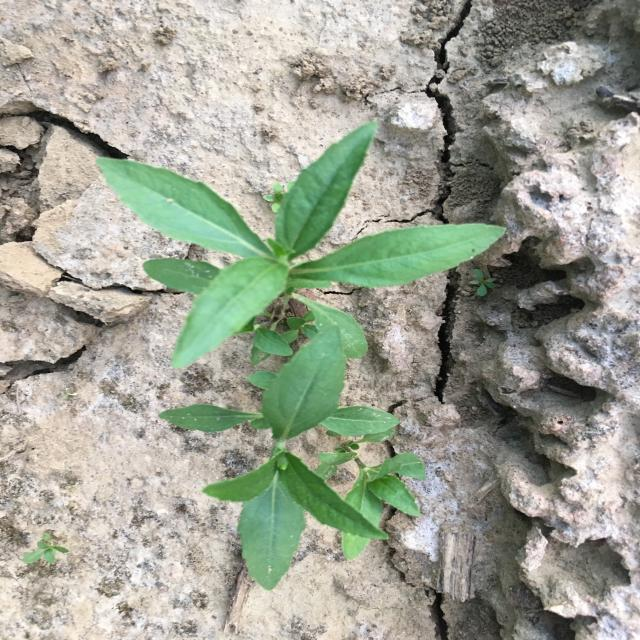Carpetweed: (22, 533, 69, 564), (470, 269, 497, 296)
Eclipta: (96, 121, 508, 370), (157, 324, 428, 592)
